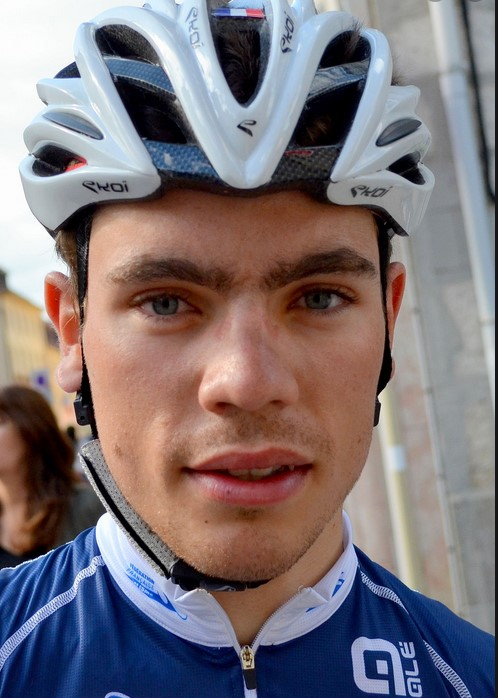face_no_mask: (54, 66, 387, 584)
